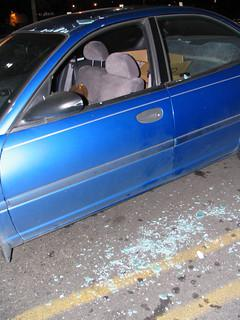doorouter-dent: (28, 19, 159, 160)
